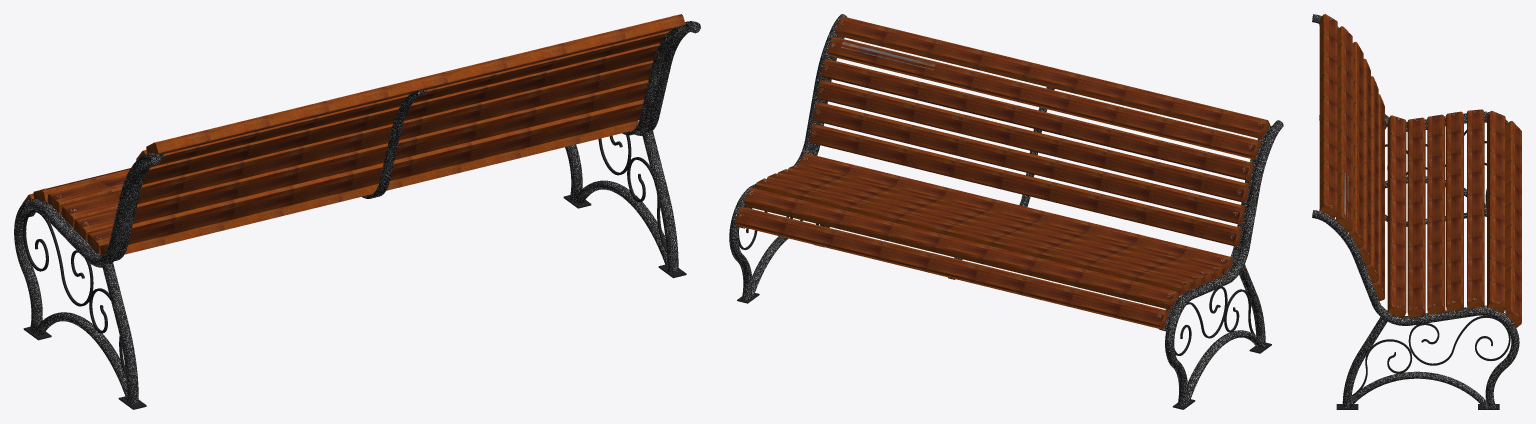
3 views of the same model, side by side, from view 1: azimuth 30°, elevation 25°; view 2: azimuth 150°, elevation 25°; view 3: azimuth 270°, elevation 25° (orthographic). The views are drawn at different scales.
Parts seen in each view (by area): view 1: mesh24_mesh24-geometry, mesh17_mesh17-geometry, mesh6_mesh6-geometry, mesh1_mesh1-geometry, mesh10_mesh10-geometry, mesh22_mesh22-geometry, mesh21_mesh21-geometry; view 2: mesh24_mesh24-geometry, mesh17_mesh17-geometry, mesh6_mesh6-geometry, mesh21_mesh21-geometry, mesh22_mesh22-geometry, mesh28_mesh28-geometry; view 3: mesh24_mesh24-geometry, mesh6_mesh6-geometry, mesh11_mesh11-geometry, mesh12_mesh12-geometry, mesh17_mesh17-geometry.
Part boxes in pixels (x1,y1,x2,y2): mesh24_mesh24-geometry: [22, 14, 685, 256]; mesh17_mesh17-geometry: [14, 153, 160, 404]; mesh6_mesh6-geometry: [565, 21, 700, 272]; mesh1_mesh1-geometry: [362, 89, 426, 198]; mesh10_mesh10-geometry: [622, 26, 686, 135]; mesh22_mesh22-geometry: [23, 210, 93, 306]; mesh21_mesh21-geometry: [29, 153, 164, 261]; mesh24_mesh24-geometry: [735, 16, 1270, 329]; mesh17_mesh17-geometry: [1165, 120, 1283, 406]; mesh6_mesh6-geometry: [729, 14, 847, 299]; mesh21_mesh21-geometry: [1159, 125, 1271, 331]; mesh22_mesh22-geometry: [1174, 286, 1227, 355]; mesh28_mesh28-geometry: [841, 41, 935, 70]; mesh24_mesh24-geometry: [1319, 14, 1521, 327]; mesh6_mesh6-geometry: [1312, 210, 1519, 408]; mesh11_mesh11-geometry: [1408, 315, 1510, 365]; mesh12_mesh12-geometry: [1352, 339, 1412, 395]; mesh17_mesh17-geometry: [1312, 14, 1508, 211].
Bounding box in the file's own units: 0.8416 × 0.3918 × 0.3718.
